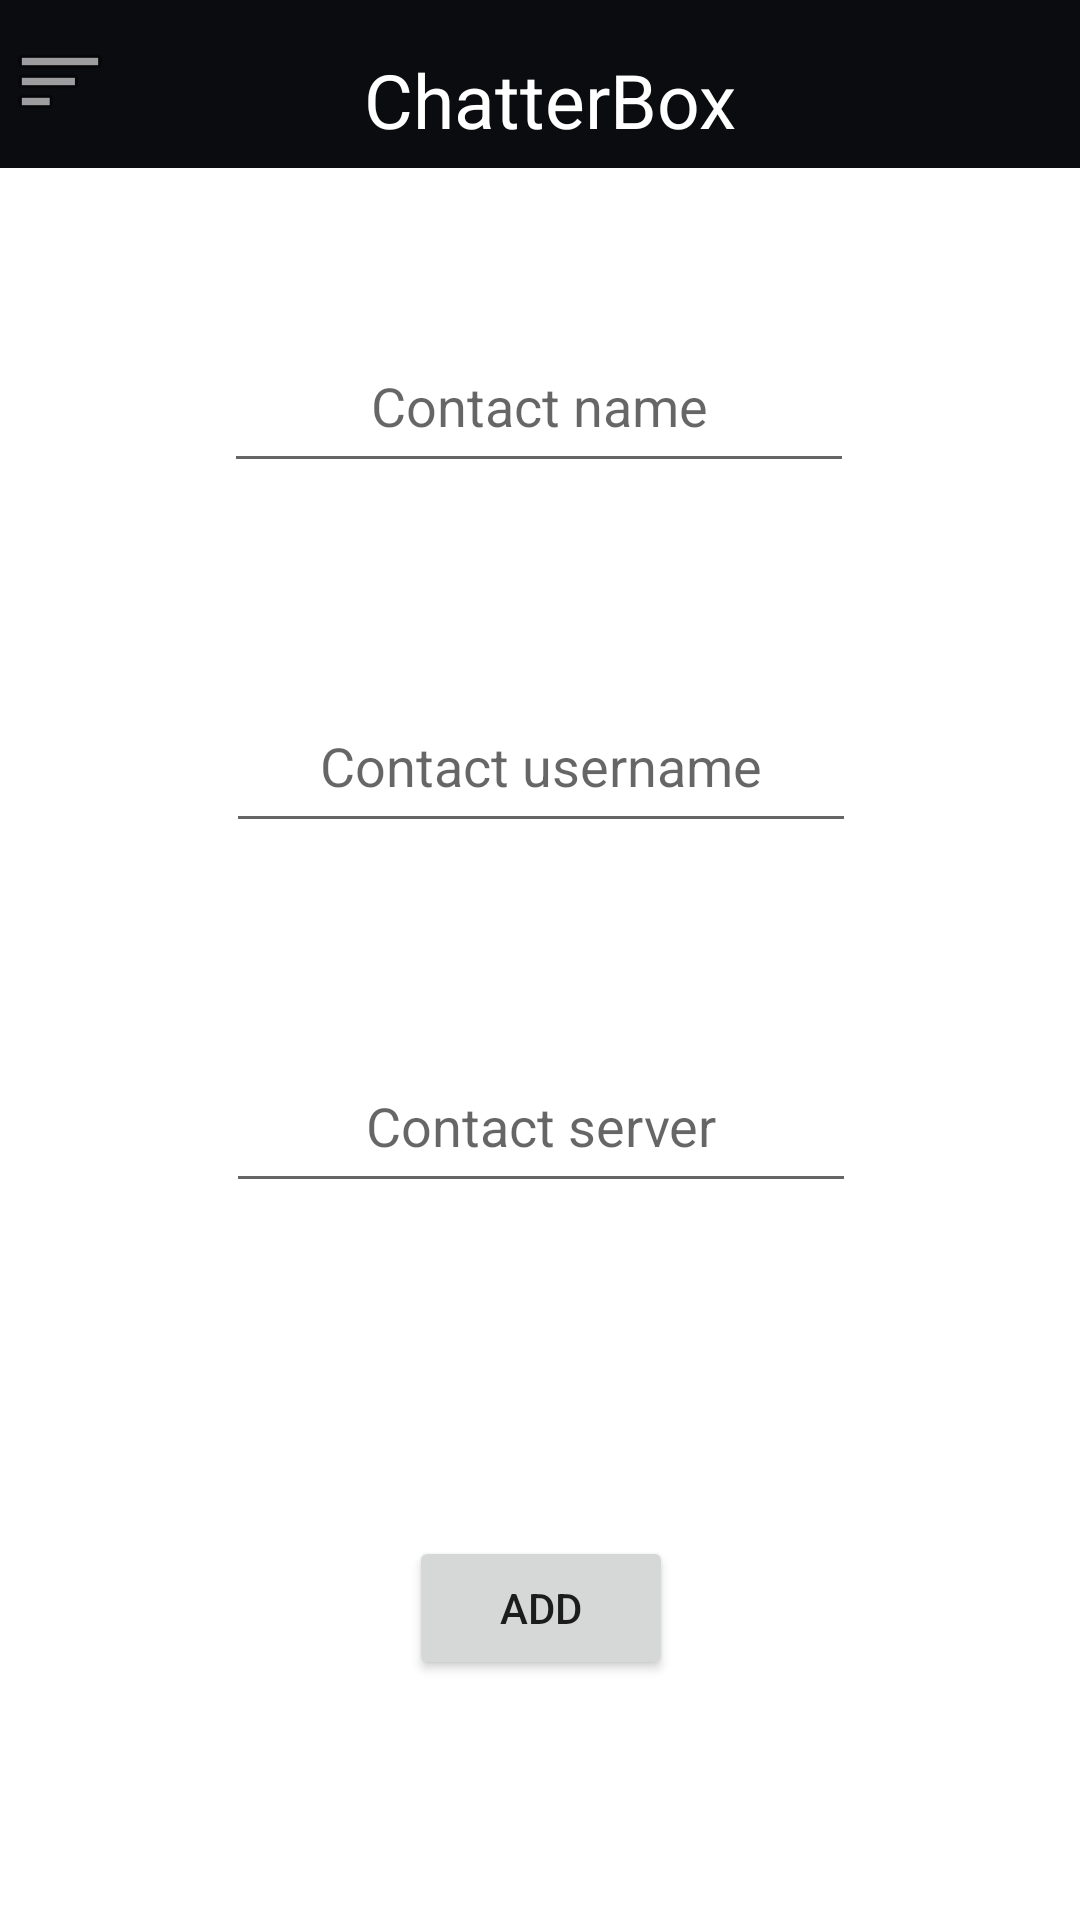

Icon click points for this 1080*1920 phone screenshot, format (x=x, y=y):
sort by size: (x=60, y=81)
